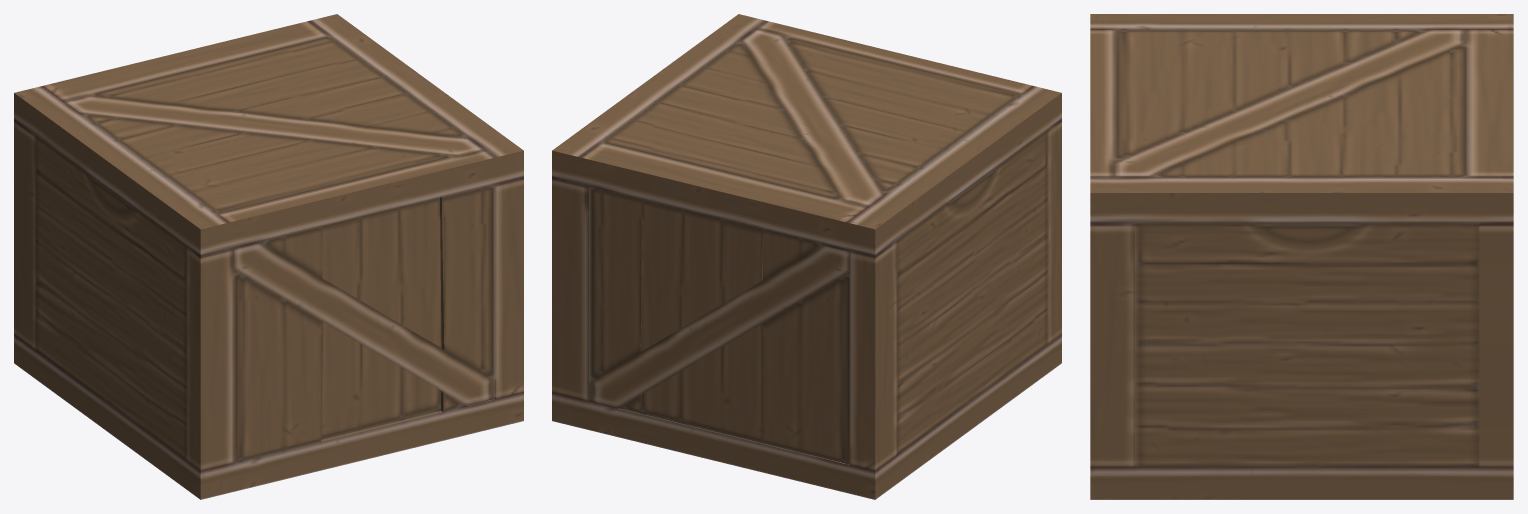
Rendered from Box_Broken.fbx.
3 renders of one model, left to right at view 1: azimuth 30°, elevation 25°; view 2: azimuth 150°, elevation 25°; view 3: azimuth 270°, elevation 25°, orthographic. The views are drawn at different scales.
Visible parts, largest first — view 1: Box_Destroy.005, Box_Destroy.003, Box_Destroy.019, Box_Destroy.015, Box_Destroy.032, Box_Destroy.014, Box_Destroy.008, Box_Destroy.010, Box_Destroy.020, Box_Destroy.001, Box_Destroy.004, Box_Destroy.017 (+4 smaller); view 2: Box_Destroy.003, Box_Destroy.005, Box_Destroy.023, Box_Destroy.001, Box_Destroy.022, Box_Destroy.028, Box_Destroy.015, Box_Destroy.032, Box_Destroy.014, Box_Destroy.011, Box_Destroy.024, Box_Destroy.006 (+3 smaller); view 3: Box_Destroy.003, Box_Destroy.012, Box_Destroy.013, Box_Destroy.005, Box_Destroy.004, Box_Destroy.007, Box_Destroy.006.
Part boxes in pixels (bbox=[...]): Box_Destroy.005: bbox=[77, 124, 523, 255]; Box_Destroy.003: bbox=[14, 14, 487, 165]; Box_Destroy.019: bbox=[234, 198, 494, 430]; Box_Destroy.015: bbox=[36, 136, 187, 316]; Box_Destroy.032: bbox=[36, 217, 187, 398]; Box_Destroy.014: bbox=[36, 278, 187, 461]; Box_Destroy.008: bbox=[187, 247, 233, 471]; Box_Destroy.010: bbox=[440, 184, 495, 379]; Box_Destroy.020: bbox=[234, 270, 285, 462]; Box_Destroy.001: bbox=[14, 335, 283, 499]; Box_Destroy.004: bbox=[284, 392, 523, 479]; Box_Destroy.017: bbox=[321, 217, 360, 439]; Box_Destroy.003: bbox=[552, 40, 938, 255]; Box_Destroy.005: bbox=[703, 14, 1061, 209]; Box_Destroy.023: bbox=[589, 186, 683, 422]; Box_Destroy.001: bbox=[637, 335, 1061, 499]; Box_Destroy.022: bbox=[589, 229, 850, 408]; Box_Destroy.028: bbox=[721, 219, 799, 452]; Box_Destroy.015: bbox=[897, 129, 1048, 321]; Box_Destroy.032: bbox=[897, 200, 1048, 382]; Box_Destroy.014: bbox=[897, 281, 1048, 454]; Box_Destroy.011: bbox=[850, 240, 896, 471]; Box_Destroy.024: bbox=[798, 272, 849, 464]; Box_Destroy.006: bbox=[552, 177, 589, 401]; Box_Destroy.003: bbox=[1172, 14, 1513, 223]; Box_Destroy.012: bbox=[1135, 223, 1479, 369]; Box_Destroy.013: bbox=[1135, 332, 1479, 467]; Box_Destroy.005: bbox=[1090, 14, 1370, 223]; Box_Destroy.004: bbox=[1090, 467, 1513, 499]; Box_Destroy.007: bbox=[1090, 223, 1134, 467]; Box_Destroy.006: bbox=[1479, 223, 1513, 467].
Size of the model in its own units: 200 by 160 by 200.
